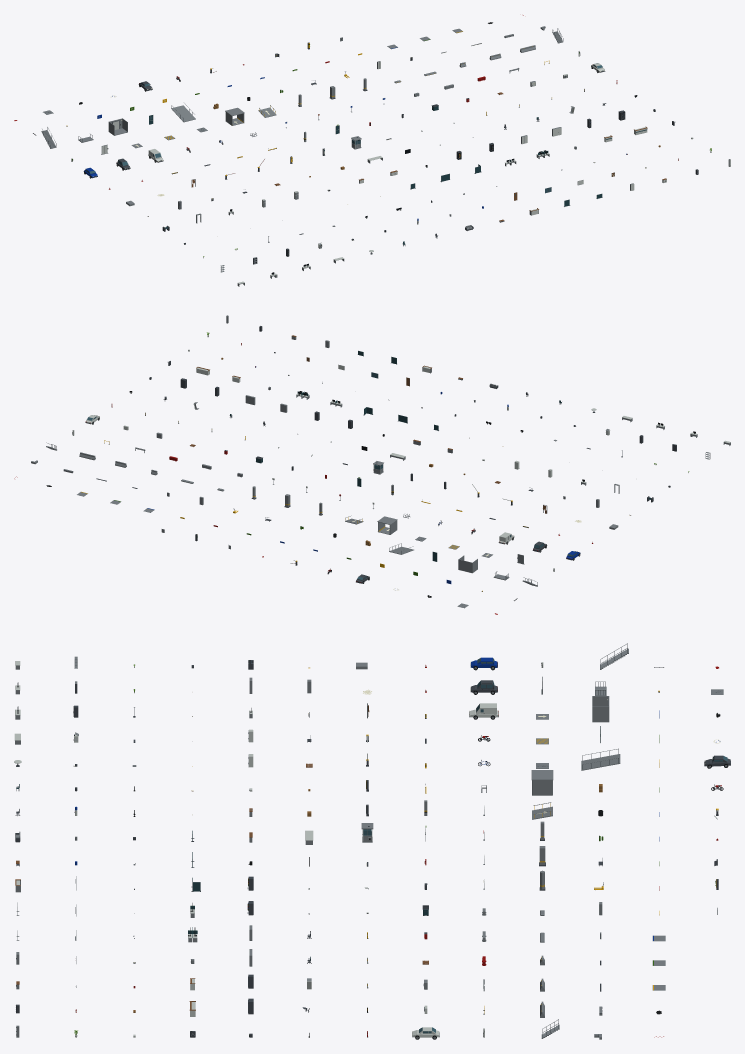
Rendered from Environment_GameKit.fbx.
3 renders of one model, top to bottom at view 1: azimuth 30°, elevation 25°; view 2: azimuth 150°, elevation 25°; view 3: azimuth 270°, elevation 25°, orthographic. The views are drawn at different scales.
Bounding box in the file's own units: 13702 × 381 × 11071.
4 materials, 4 textured.
